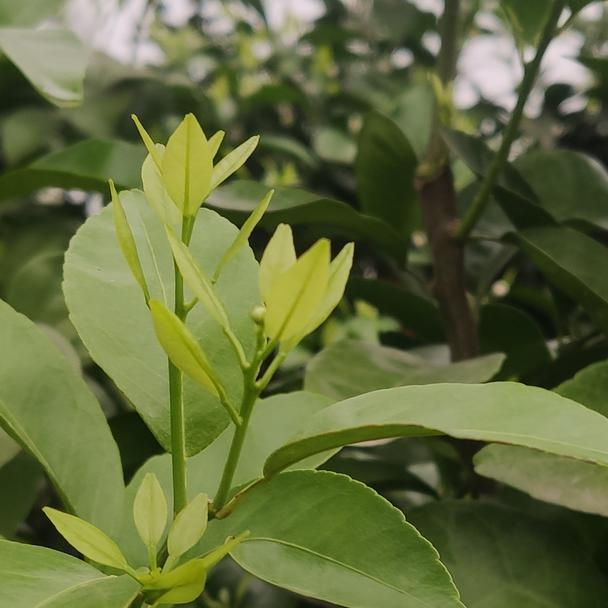shoot: (178, 250, 341, 456), (114, 127, 237, 390)
